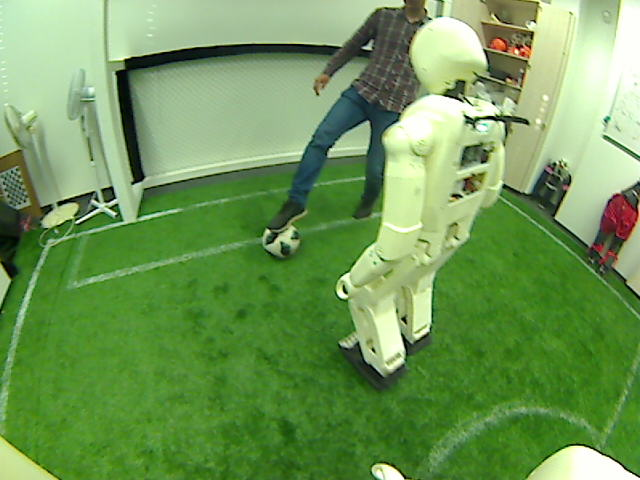ball: (267, 227, 299, 253)
goalpost: (118, 186, 140, 223)
robot: (358, 305, 412, 382), (592, 195, 603, 265)
